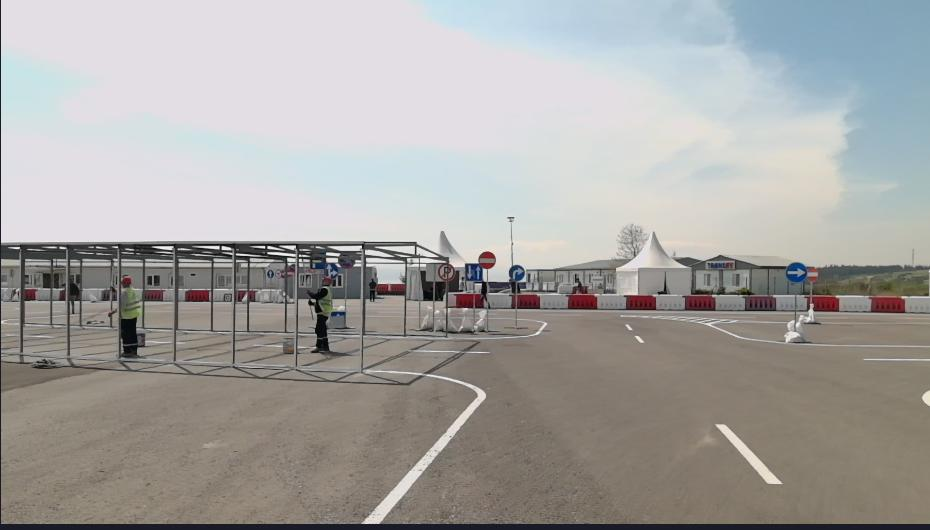nesne: (3, 307, 929, 528), (361, 310, 824, 529), (2, 348, 484, 527), (611, 310, 928, 524), (624, 313, 928, 348), (452, 293, 928, 311), (3, 317, 310, 333), (337, 314, 547, 337), (711, 421, 783, 483), (302, 276, 334, 352), (116, 271, 141, 356), (774, 295, 811, 312), (432, 304, 457, 329), (836, 295, 871, 312), (406, 347, 488, 354), (652, 293, 686, 309), (871, 295, 903, 312), (455, 305, 475, 332), (539, 292, 569, 310), (784, 261, 806, 283), (784, 316, 803, 341), (569, 294, 600, 309), (715, 297, 745, 312), (903, 295, 929, 312), (595, 295, 626, 309), (255, 288, 285, 302), (685, 294, 713, 309), (454, 293, 483, 307), (746, 295, 775, 309), (810, 294, 837, 309), (628, 295, 656, 309), (863, 356, 927, 362), (513, 295, 540, 309), (476, 250, 494, 270), (366, 275, 379, 302), (488, 295, 513, 309), (508, 263, 525, 283), (67, 277, 78, 307), (422, 305, 433, 331), (80, 288, 101, 301), (475, 309, 488, 330), (803, 265, 821, 280), (1, 288, 20, 302), (211, 289, 235, 300), (184, 291, 209, 301), (234, 289, 256, 300), (439, 263, 453, 280), (322, 262, 336, 279), (143, 291, 164, 302), (164, 291, 185, 302), (24, 289, 36, 300), (35, 289, 46, 301), (46, 289, 57, 300), (634, 333, 643, 345), (625, 322, 632, 329)
